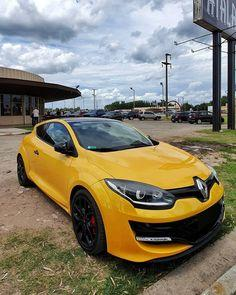Renault: (192, 171, 211, 205)
